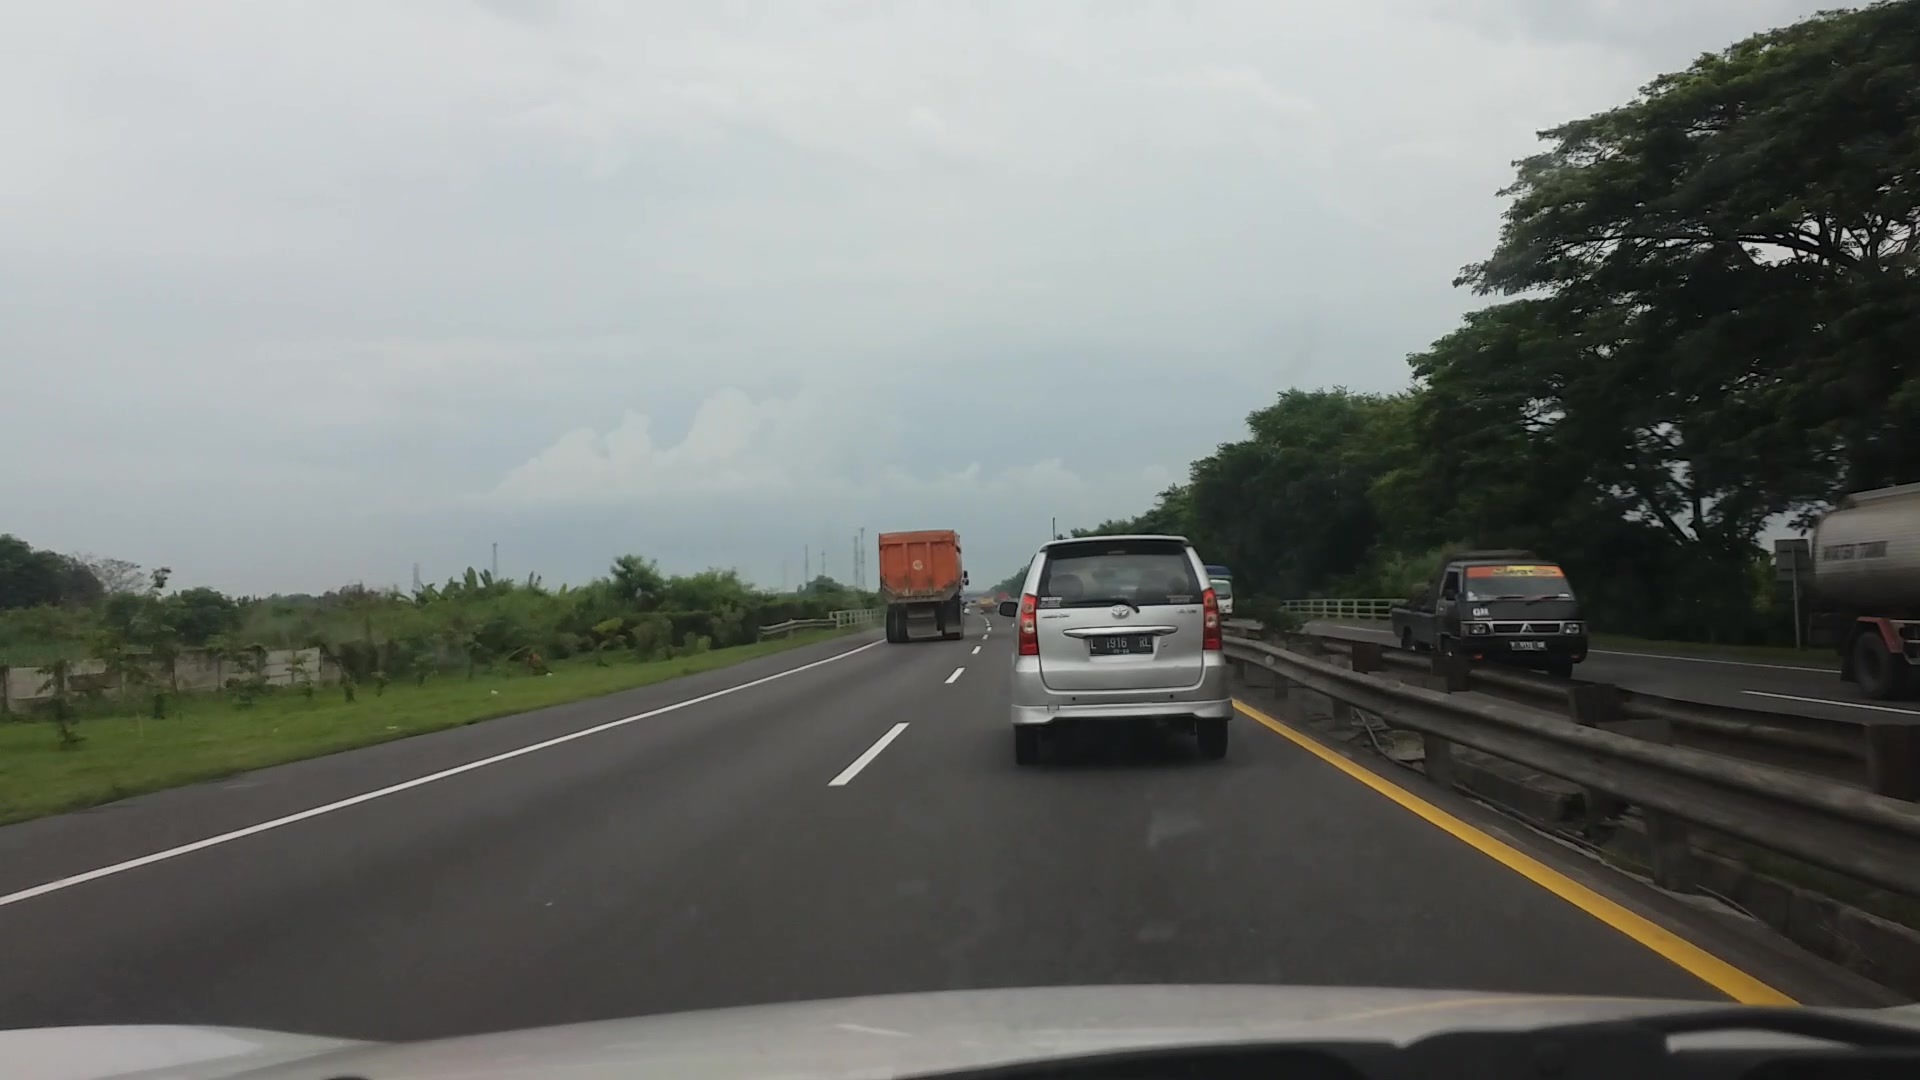plate_positive: (1089, 633, 1153, 654)
